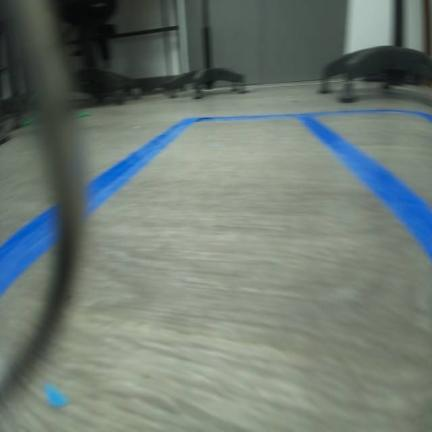place: (0, 111, 431, 431), (291, 107, 431, 260)
